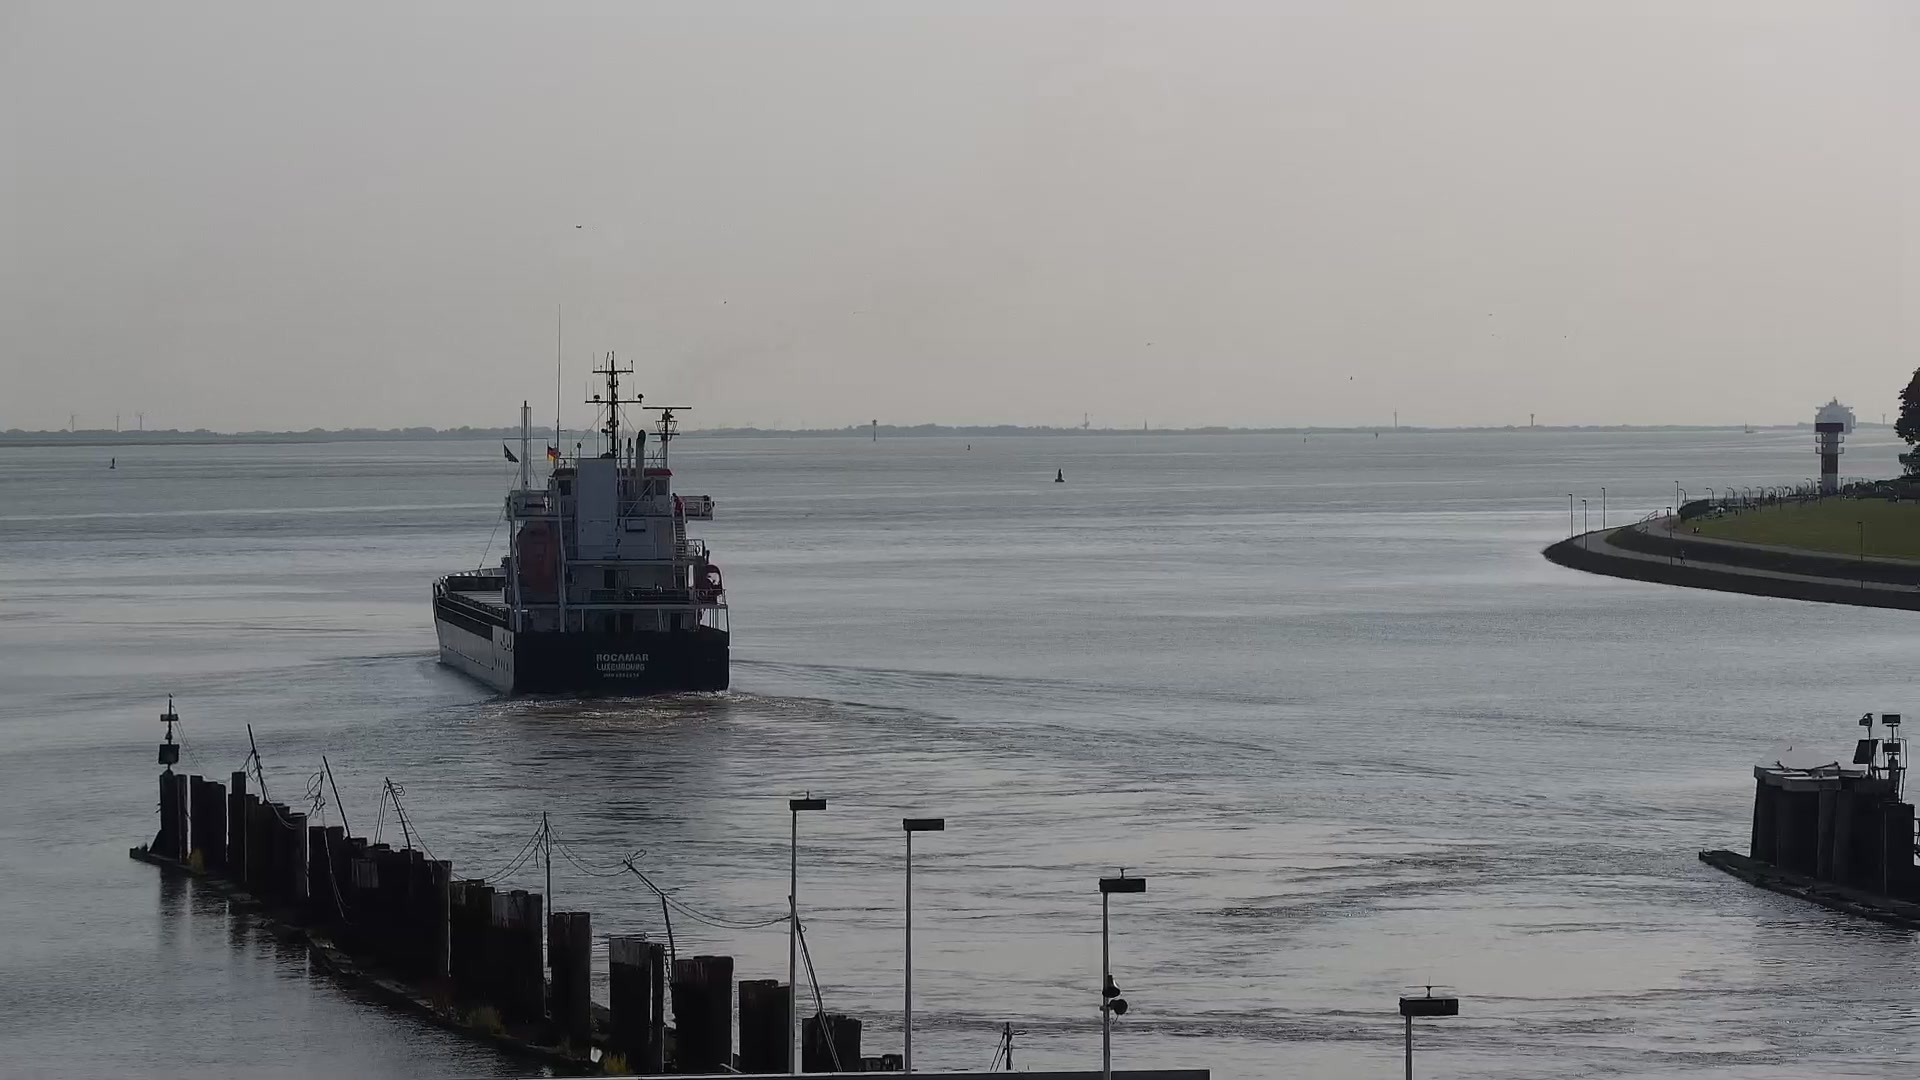human: (1679, 547, 1686, 564)
sea: (429, 305, 731, 695)
